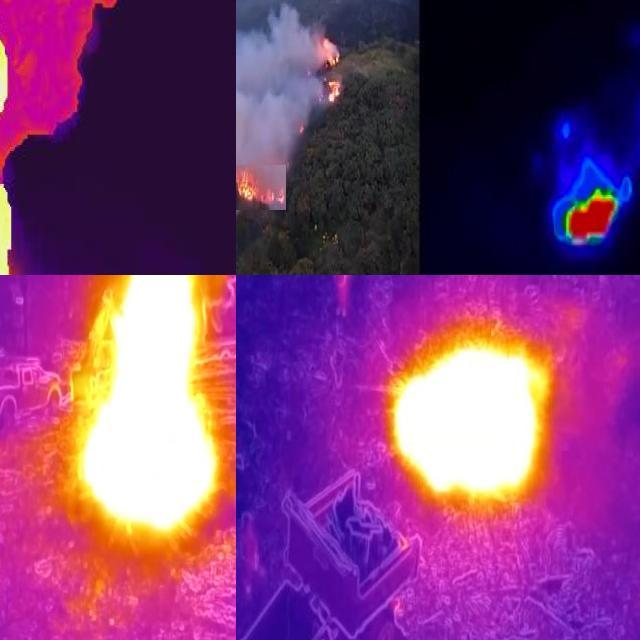fire: (79, 276, 233, 536), (387, 315, 556, 514), (563, 191, 619, 246), (1, 183, 17, 276), (1, 34, 14, 121)
